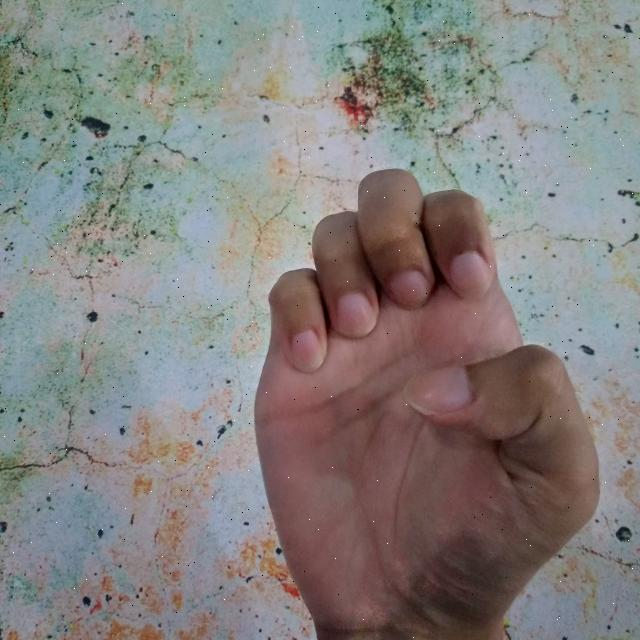E: (253, 168, 600, 640)
